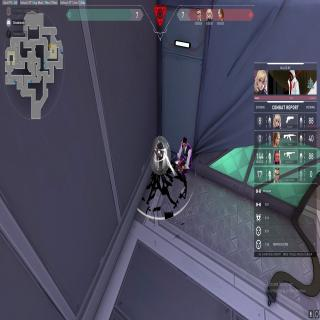ENEMY-BODY: (177, 134, 193, 197)
ENEMY-HEAD: (182, 136, 187, 148)
